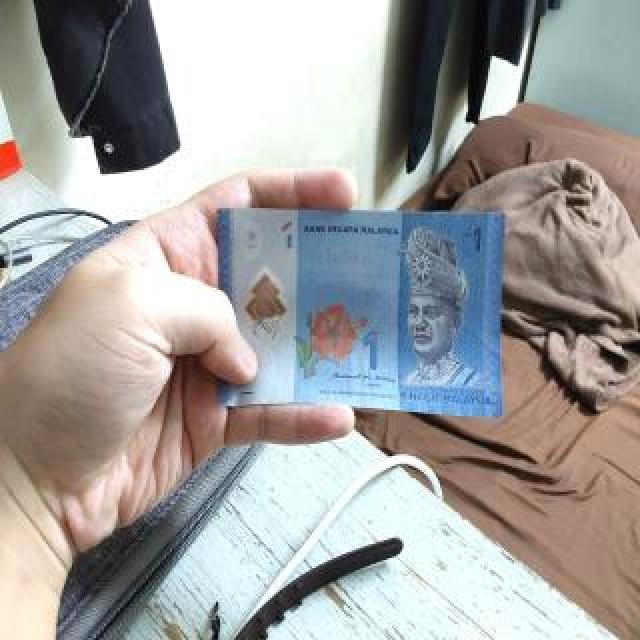1 Ringgit: (212, 202, 513, 419)
